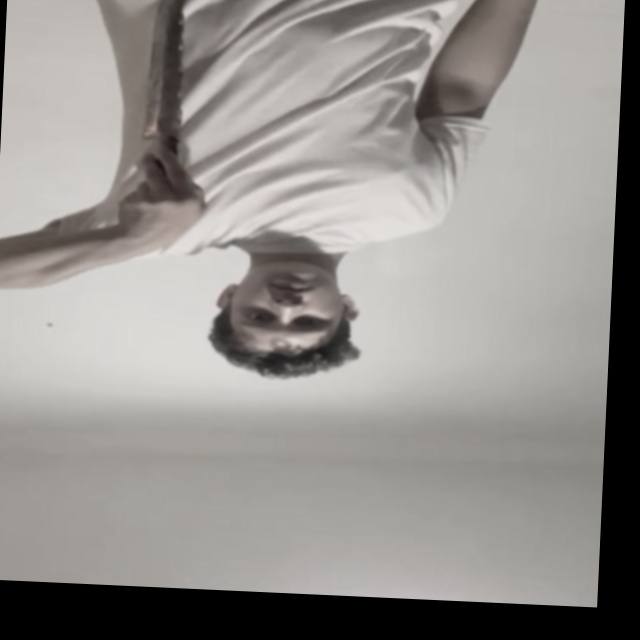Sharp-Object: (144, 0, 192, 143)
